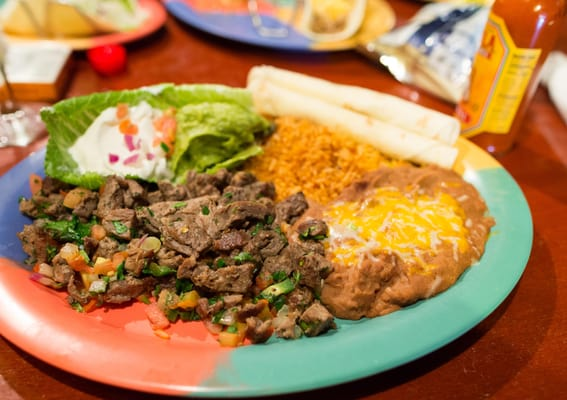curry: (1, 1, 562, 400)
sandwich: (0, 3, 50, 152)
